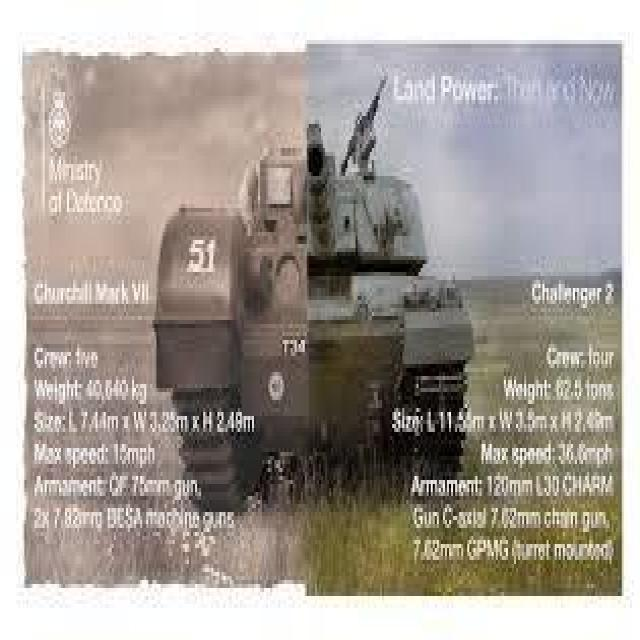MIL_MBT: (123, 74, 525, 538)
